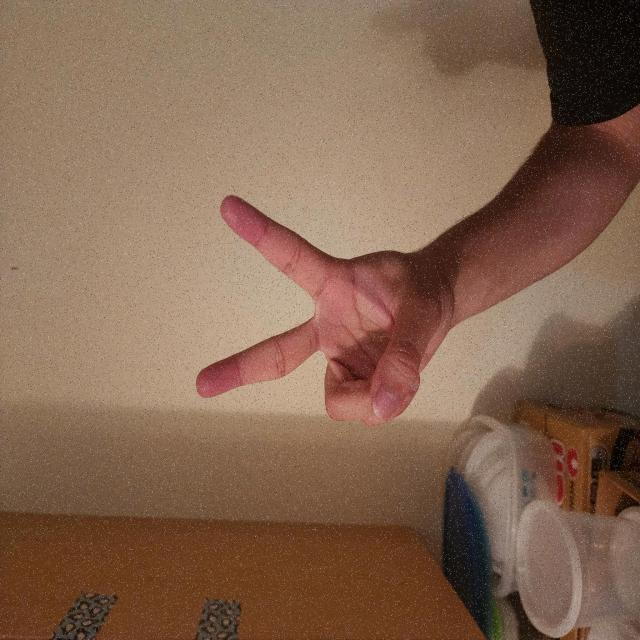V: (158, 259, 340, 607)
